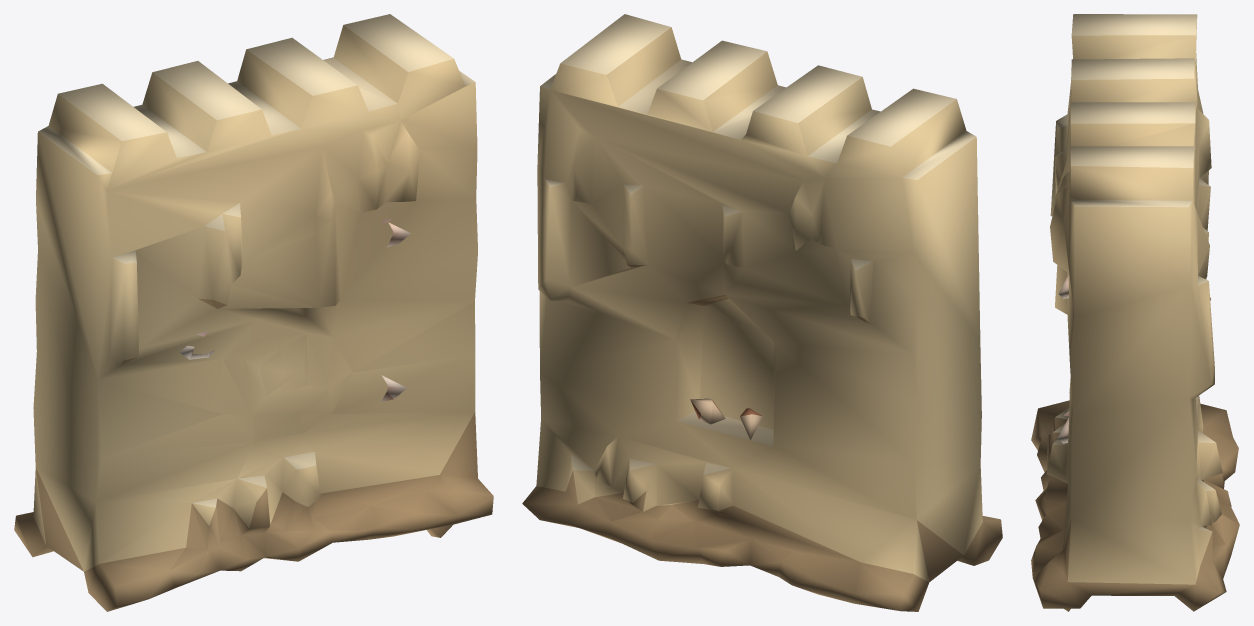
The model's file is shore_castle_wall_c_lod2.glb.
The picture shows the model from 3 angles, left to right: view 1: azimuth 30°, elevation 25°; view 2: azimuth 150°, elevation 25°; view 3: azimuth 270°, elevation 25°; orthographic projection. The views are drawn at different scales.
Visible parts, largest first — view 1: shore_castle_wall_c.001; view 2: shore_castle_wall_c.001; view 3: shore_castle_wall_c.001.
Part boxes in pixels (x1,y1,x2,y2): shore_castle_wall_c.001: (14,14,493,611); shore_castle_wall_c.001: (522,14,1002,611); shore_castle_wall_c.001: (1031,14,1239,611).
Bounding box in the file's own units: 9.96 × 11.77 × 4.93.
